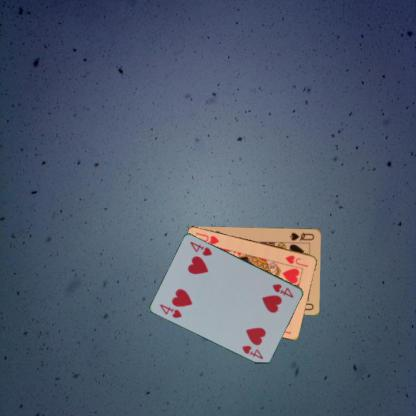4h: (157, 301, 183, 319), (270, 281, 294, 299)
Jh: (283, 252, 309, 269)
Qs: (287, 230, 316, 241)
